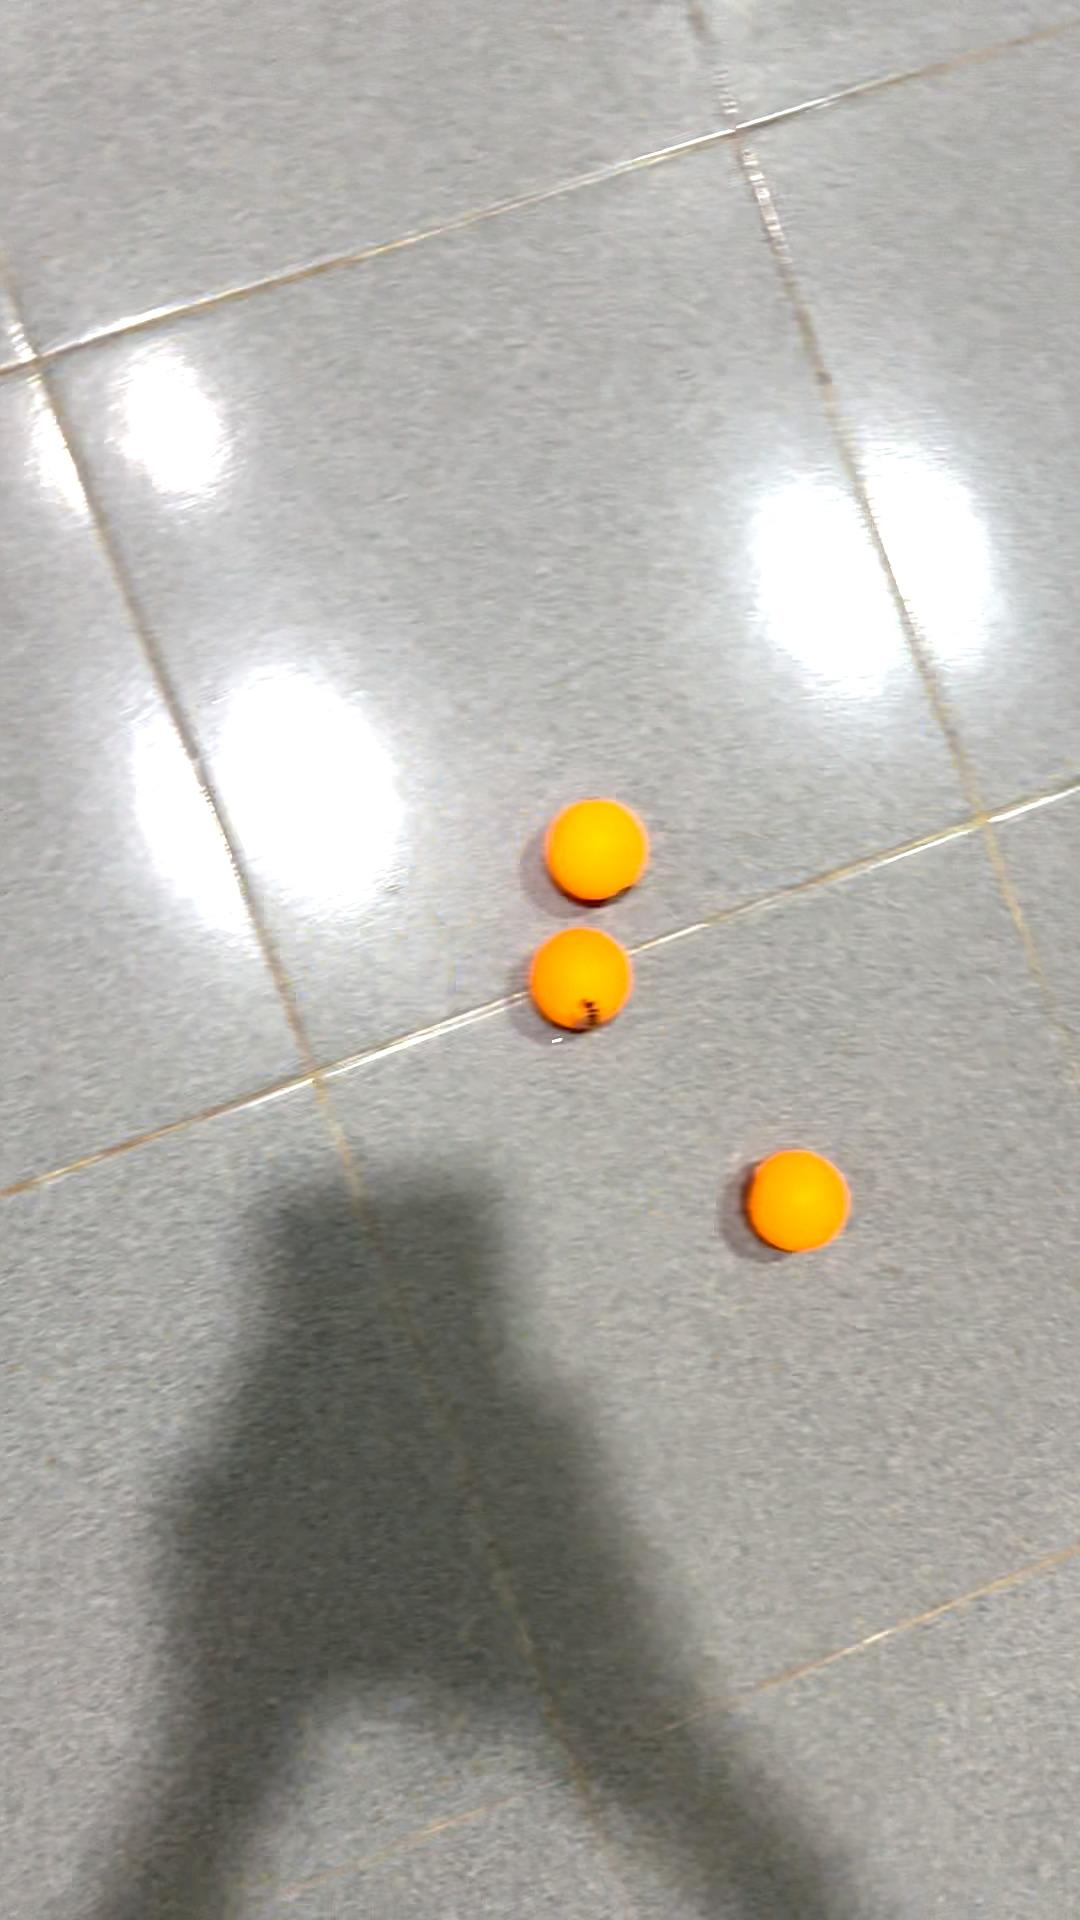oball: (741, 1145, 877, 1269), (521, 922, 644, 1051), (538, 778, 659, 909)
